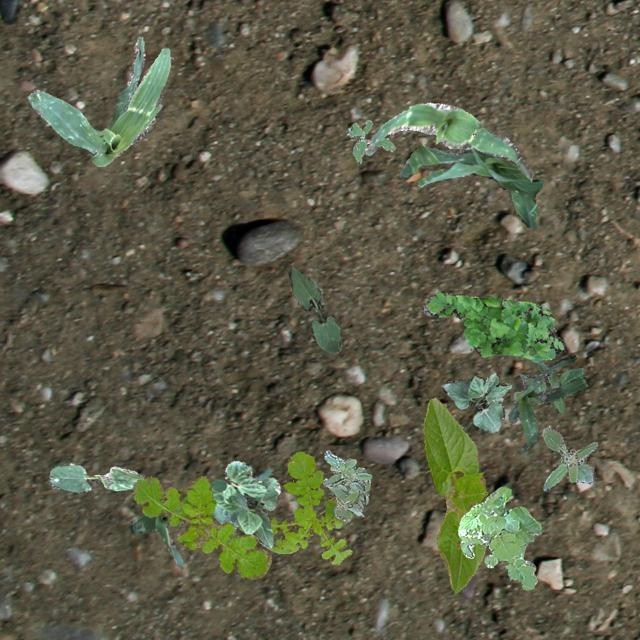crop: (27, 36, 172, 166), (128, 467, 270, 568), (363, 102, 532, 180), (422, 397, 487, 592), (398, 144, 542, 228), (507, 353, 588, 452), (210, 460, 280, 548), (288, 266, 340, 354), (440, 372, 510, 432), (48, 462, 142, 492)
weed: (130, 476, 270, 580), (422, 290, 564, 362), (268, 450, 352, 564), (456, 486, 540, 588), (322, 449, 371, 522), (540, 426, 596, 489), (519, 361, 581, 412), (346, 119, 396, 162)
